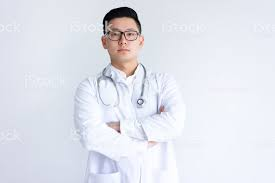asian_male: (97, 1, 149, 65)
